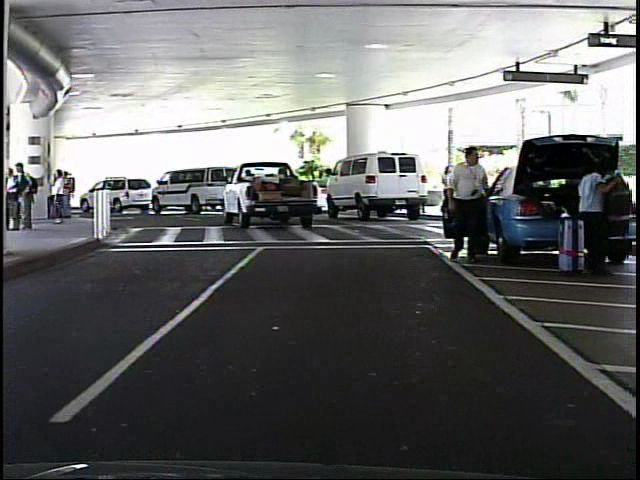person: (435, 141, 487, 266), (567, 158, 617, 276)
